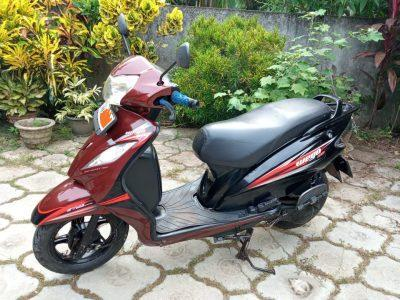motorbike: (30, 14, 358, 275)
